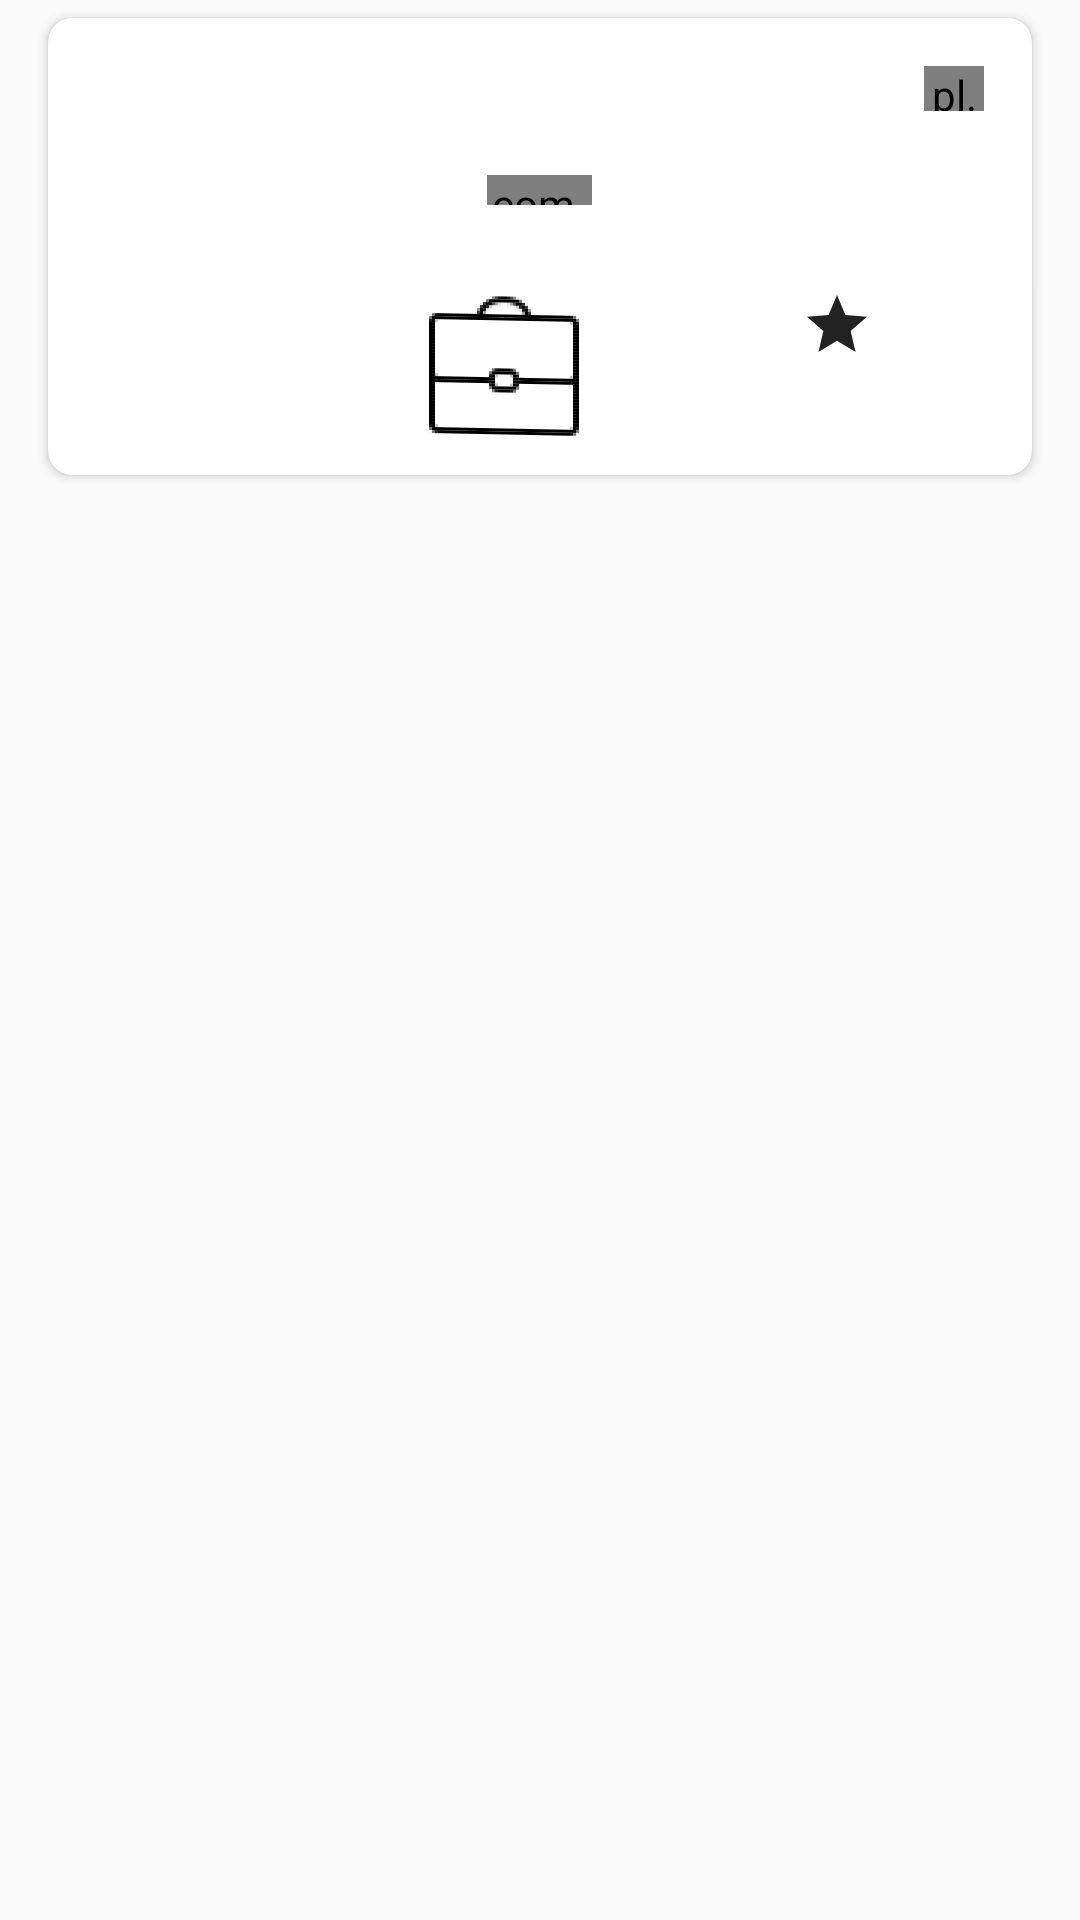

Where to tap for icons on this 1080x1920 app screen, as (x=x, y=y):
favorite fab: (x=837, y=323)
work: (x=504, y=366)
